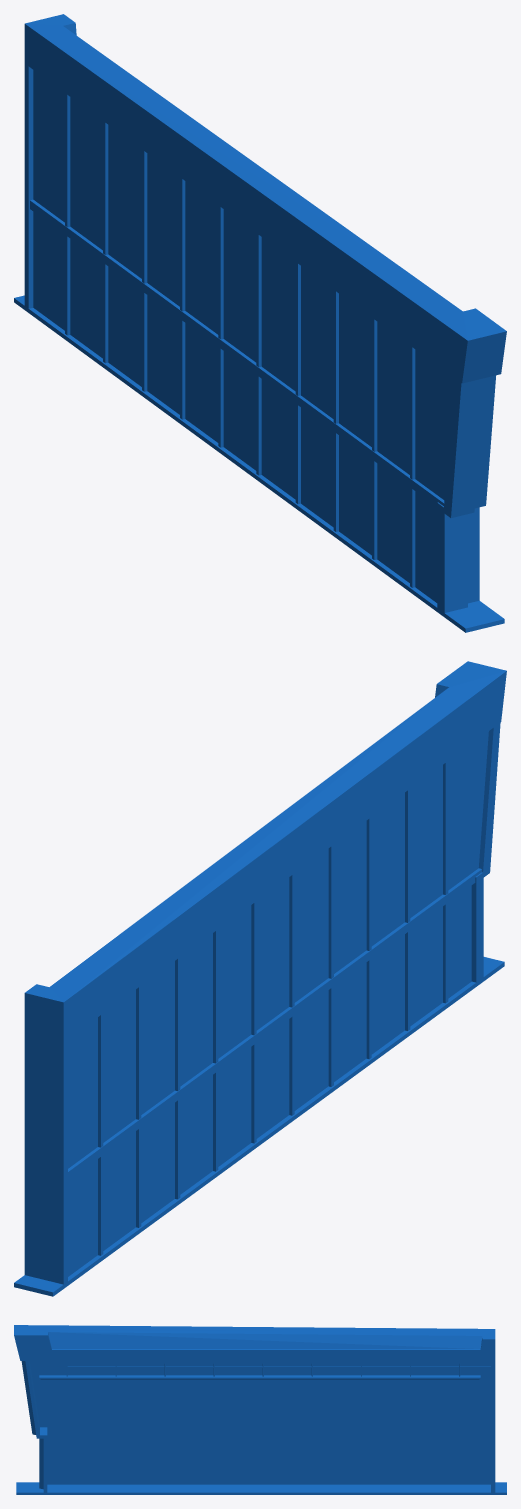
Rendered from SM_side.fbx.
3 renders of one model, top to bottom at view 1: azimuth 30°, elevation 25°; view 2: azimuth 150°, elevation 25°; view 3: azimuth 270°, elevation 25°, orthographic. The views are drawn at different scales.
Parts seen in each view (by area): view 1: Cube_21; view 2: Cube_21; view 3: Cube_21.
Boxes of the visible parts, bbox=[...] form: Cube_21: bbox=[14, 14, 506, 632]; Cube_21: bbox=[14, 661, 506, 1296]; Cube_21: bbox=[14, 1325, 506, 1494].
Size of the model in its own units: 100 by 718 by 2010.
